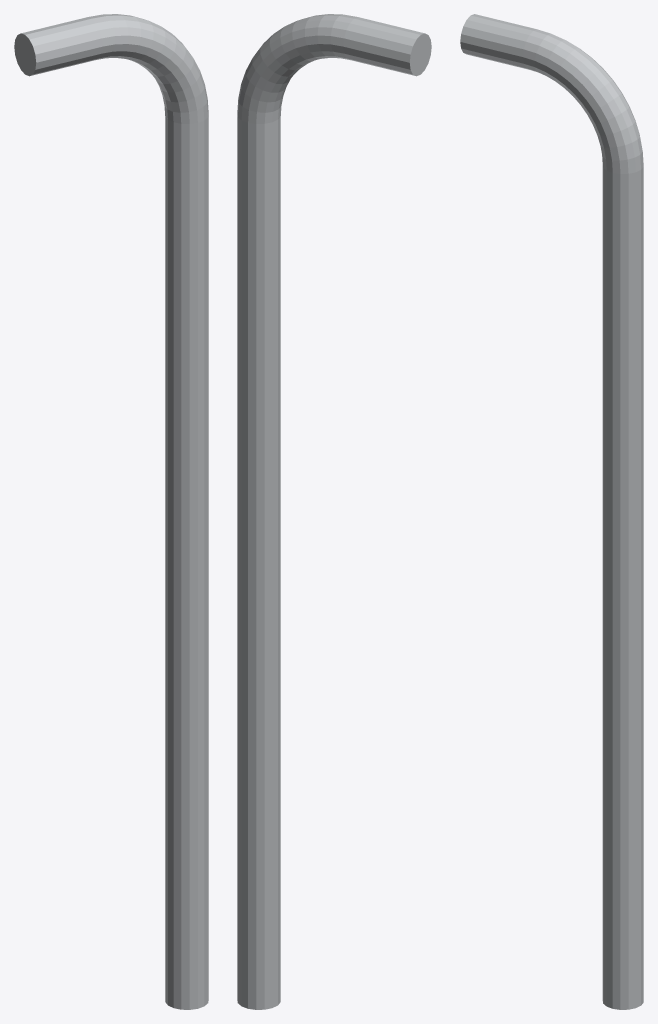
The model's file is moretop_-2.obj.
3 renders of one model, left to right at view 1: azimuth 30°, elevation 25°; view 2: azimuth 150°, elevation 25°; view 3: azimuth 330°, elevation 25°, orthographic. The views are drawn at different scales.
Parts seen in each view (by area): view 1: moretop_1.002; view 2: moretop_1.002; view 3: moretop_1.002.
Boxes of the visible parts, x1=… form: moretop_1.002: x1=14, y1=14, x2=208, y2=1009; moretop_1.002: x1=237, y1=14, x2=431, y2=1009; moretop_1.002: x1=460, y1=14, x2=643, y2=1009.
Bounding box in the file's own units: 1.9 × 10.1 × 0.4.
Materials: 1 (1 with a texture image).
